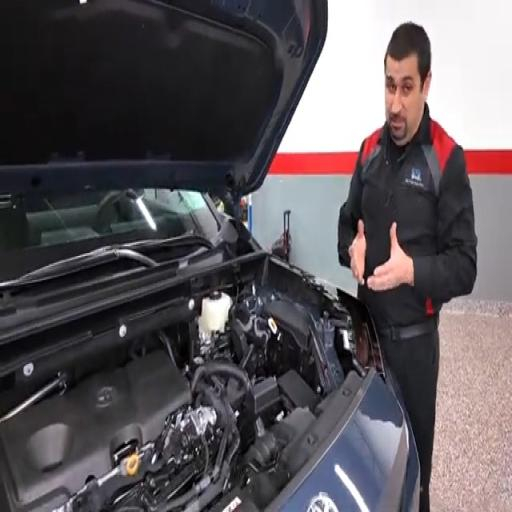bumper: (279, 373, 419, 511)
emblem: (308, 493, 339, 511)
hood: (0, 0, 327, 194)
window: (0, 190, 219, 254)
windshield: (0, 190, 219, 280)
